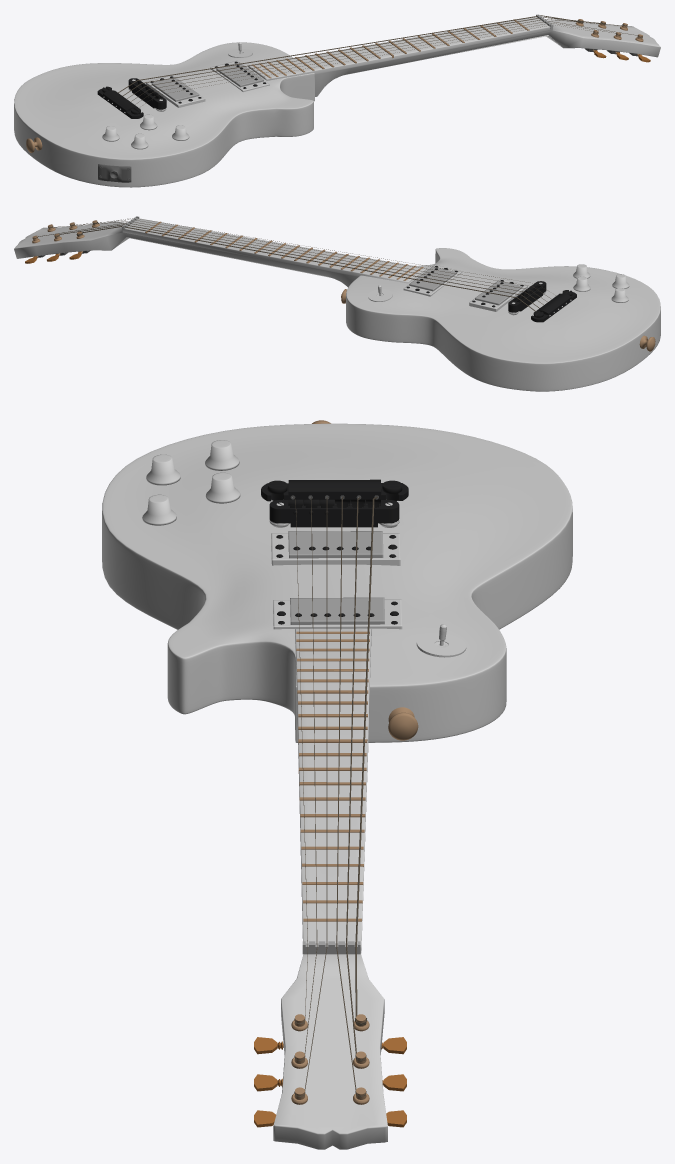
File: Guiltartexturing.obj
3 renders of one model, top to bottom at view 1: azimuth 30°, elevation 25°; view 2: azimuth 150°, elevation 25°; view 3: azimuth 270°, elevation 25°, orthographic. The views are drawn at different scales.
Visible parts, largest first — view 1: Body_Plane.001, Handle_Plane, String6_Cylinder.074, Handle_lines_Cube.003, boxprt_Cube, boxprt.001_Cube.007, plug_Plane.002, Bridge_Cube.004, Saddle_Cube.008, Pickup1_Cube.001, Pickup1.001_Cube.002; view 2: Body_Plane.001, Handle_Plane, String6_Cylinder.074, Handle_lines_Cube.003, boxprt_Cube, boxprt.001_Cube.007, Bridge_Cube.004, Saddle_Cube.008, Pickup1_Cube.001, Pickup1.001_Cube.002, Switch_Cylinder.025; view 3: Body_Plane.001, Handle_Plane, String6_Cylinder.074, Handle_lines_Cube.003, Saddle_Cube.008, boxprt.001_Cube.007, boxprt_Cube, Bridge_Cube.004, Pickup1_Cube.001, Pickup1.001_Cube.002, Switch_Cylinder.025.
Boxes of the visible parts, x1=… form: Body_Plane.001: x1=14, y1=42, x2=314, y2=187; Handle_Plane: x1=248, y1=17, x2=660, y2=96; String6_Cylinder.074: x1=118, y1=15, x2=637, y2=105; Handle_lines_Cube.003: x1=252, y1=19, x2=529, y2=78; boxprt_Cube: x1=151, y1=77, x2=199, y2=101; boxprt.001_Cube.007: x1=216, y1=62, x2=263, y2=87; plug_Plane.002: x1=98, y1=164, x2=131, y2=182; Bridge_Cube.004: x1=97, y1=89, x2=143, y2=118; Saddle_Cube.008: x1=128, y1=78, x2=166, y2=109; Pickup1_Cube.001: x1=145, y1=75, x2=205, y2=107; Pickup1.001_Cube.002: x1=210, y1=61, x2=269, y2=91; Body_Plane.001: x1=346, y1=248, x2=660, y2=391; Handle_Plane: x1=14, y1=218, x2=427, y2=287; String6_Cylinder.074: x1=38, y1=218, x2=555, y2=311; Handle_lines_Cube.003: x1=145, y1=221, x2=423, y2=280; boxprt_Cube: x1=475, y1=281, x2=522, y2=305; boxprt.001_Cube.007: x1=409, y1=266, x2=456, y2=291; Bridge_Cube.004: x1=531, y1=292, x2=576, y2=322; Saddle_Cube.008: x1=508, y1=281, x2=546, y2=312; Pickup1_Cube.001: x1=469, y1=279, x2=527, y2=311; Pickup1.001_Cube.002: x1=403, y1=265, x2=462, y2=296; Switch_Cylinder.025: x1=368, y1=285, x2=392, y2=301; Body_Plane.001: x1=102, y1=423, x2=572, y2=742; Handle_Plane: x1=273, y1=628, x2=387, y2=1149; String6_Cylinder.074: x1=293, y1=496, x2=377, y2=1090; Handle_lines_Cube.003: x1=296, y1=631, x2=369, y2=921; Saddle_Cube.008: x1=269, y1=500, x2=399, y2=527; boxprt.001_Cube.007: x1=290, y1=597, x2=384, y2=624; boxprt_Cube: x1=288, y1=531, x2=383, y2=558; Bridge_Cube.004: x1=261, y1=479, x2=408, y2=501; Pickup1_Cube.001: x1=271, y1=533, x2=400, y2=565; Pickup1.001_Cube.002: x1=273, y1=599, x2=402, y2=629; Switch_Cylinder.025: x1=416, y1=624, x2=466, y2=657.
Size of the model in its own units: 25.35 by 3.15 by 8.25.
